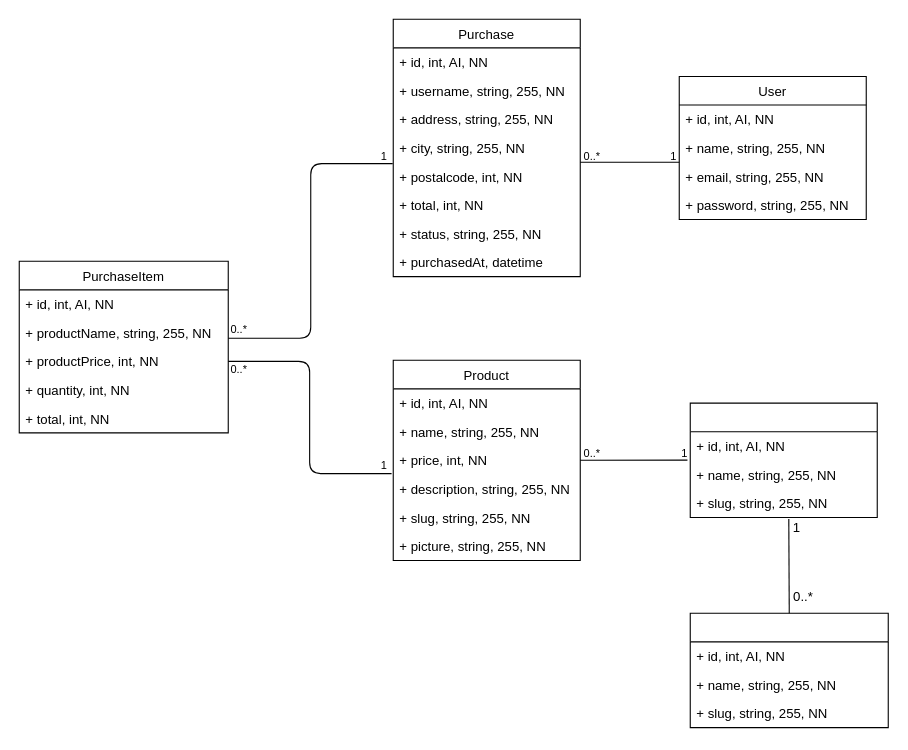
Image size: 908x750. Some labels were removed from this diagram. Here are the shapes that lost their labels. From the top down, the box of each, then its label:
(689, 402, 877, 518): SubCategory
(689, 612, 888, 728): Category
